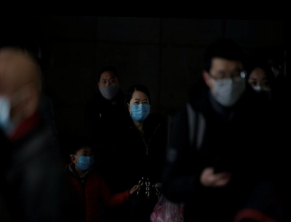with_mask: (208, 67, 245, 107), (129, 96, 151, 122), (98, 75, 119, 101), (76, 149, 93, 171)
